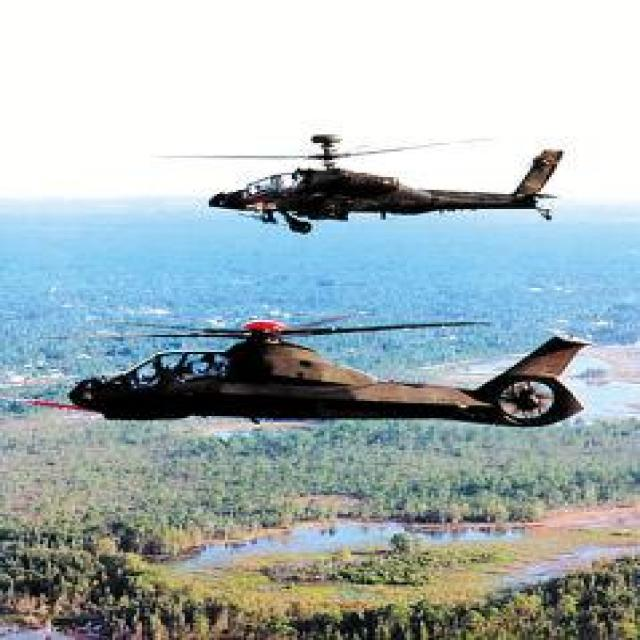MIL_HELO: (41, 302, 603, 444), (173, 130, 581, 237)
